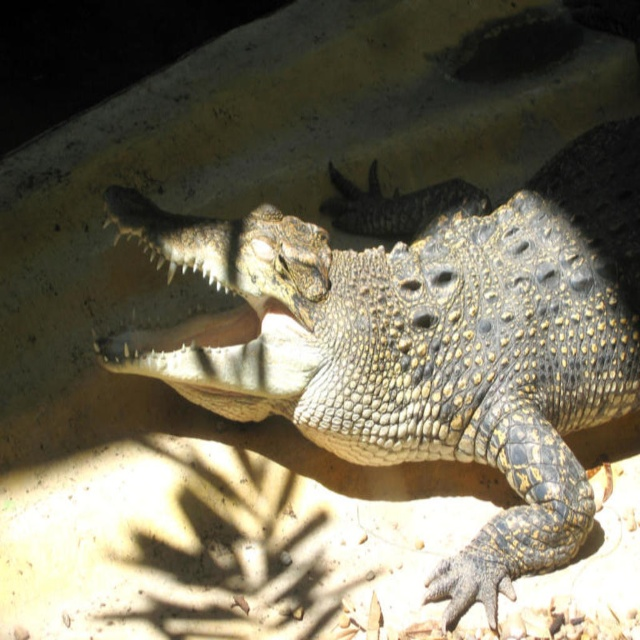Crocodile: (92, 112, 637, 631)
